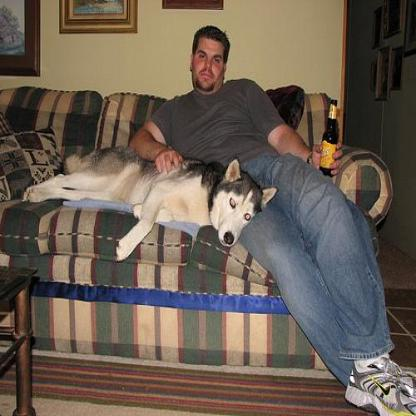Siberian_husky: (21, 141, 278, 262)
